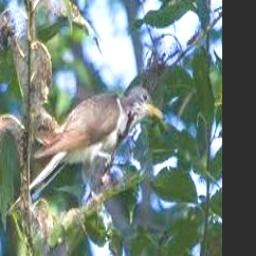Cuckoo: (4, 86, 162, 219)
